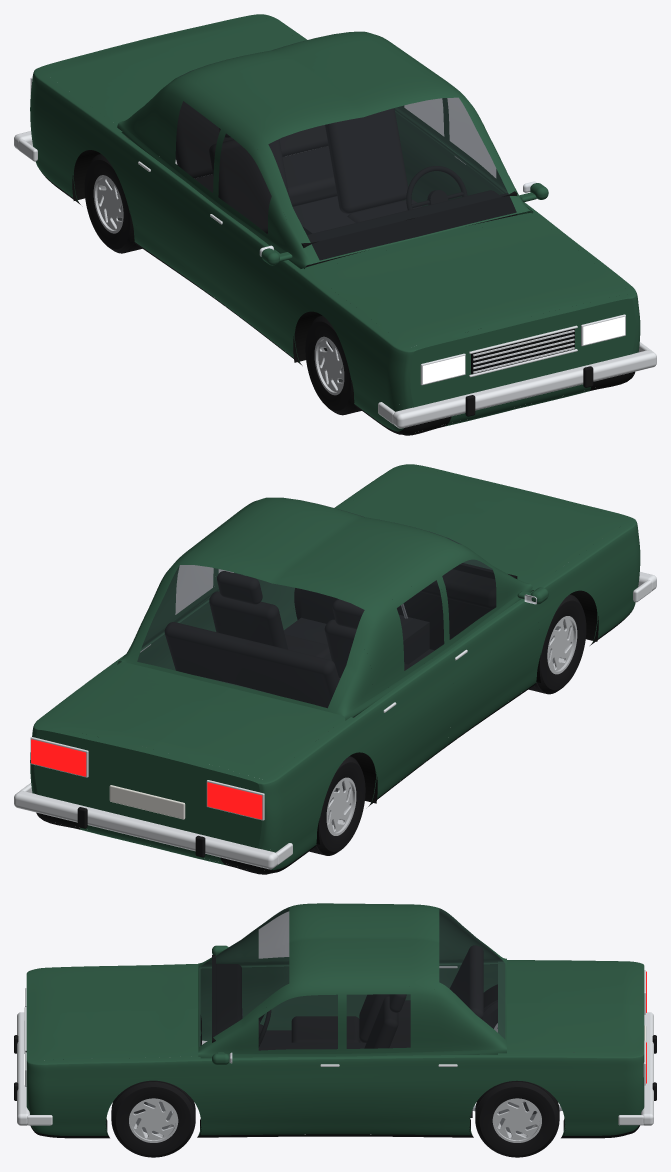
File: family-car.glb
3 renders of one model, top to bottom at view 1: azimuth 30°, elevation 25°; view 2: azimuth 150°, elevation 25°; view 3: azimuth 270°, elevation 25°, orthographic. The views are drawn at different scales.
Parts seen in each view (by area): view 1: canopy, bonnet, front_bumper, body, seats, boot, door_front_right, door_rear_right, window_front_right, window_rear_right, cabin_floor, wheel_rr (+9 smaller); view 2: canopy, rear_bumper, body, boot, bonnet, seats, door_front_right, door_rear_right, window_rear_right, cabin_floor, window_front_right, wheel_fr (+7 smaller); view 3: canopy, body, bonnet, boot, door_front_left, door_rear_left, window_rear_left, window_front_left, seats, wheel_fl, wheel_rl, door_front_right (+8 smaller).
Part boxes in pixels (x1,y1,x2,y2): canopy: (117, 31, 532, 268); bonnet: (310, 216, 628, 346); front_bumper: (378, 293, 656, 432); body: (30, 15, 637, 435); seats: (175, 101, 421, 234); boot: (42, 16, 300, 124); door_front_right: (206, 203, 297, 357); door_rear_right: (134, 149, 214, 297); window_front_right: (214, 122, 306, 262); window_rear_right: (146, 84, 225, 198); cabin_floor: (290, 191, 517, 320); wheel_rr: (84, 153, 142, 253); canopy: (117, 497, 532, 720); rear_bumper: (14, 725, 292, 871); body: (34, 465, 640, 874); boot: (42, 668, 339, 778); bonnet: (341, 466, 628, 585); seats: (164, 571, 411, 717); door_front_right: (445, 592, 539, 746); door_rear_right: (375, 652, 454, 798); window_rear_right: (363, 572, 444, 696); cabin_floor: (284, 563, 517, 665); window_front_right: (433, 551, 526, 647); wheel_fr: (528, 594, 586, 694); canopy: (198, 903, 506, 1058); body: (32, 960, 638, 1138); bonnet: (33, 966, 192, 1060); boot: (513, 962, 637, 1053); door_front_left: (204, 1056, 344, 1135); door_rear_left: (344, 1055, 461, 1135); window_rear_left: (346, 986, 460, 1053); window_front_left: (205, 987, 343, 1053); seats: (291, 945, 483, 1048); wheel_fl: (111, 1080, 195, 1157); wheel_rl: (475, 1080, 559, 1157); door_front_right: (204, 966, 337, 1040).
Size of the model in its own units: 1.94 by 1.41 by 4.68.
